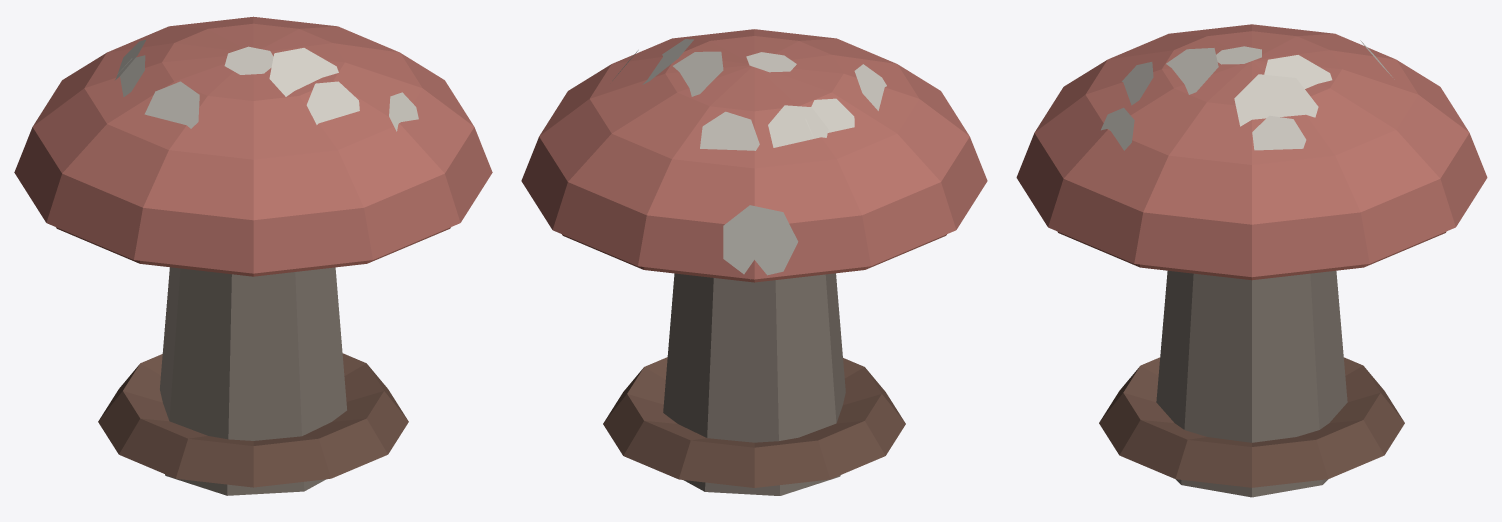
File: toadstool_v3.glb
The picture shows the model from 3 angles, left to right: view 1: azimuth 30°, elevation 25°; view 2: azimuth 150°, elevation 25°; view 3: azimuth 270°, elevation 25°; orthographic projection. The views are drawn at different scales.
Parts seen in each view (by area): view 1: world; view 2: world; view 3: world.
Part boxes in pixels (box(x1,y1,x2,y2)): world: box(14, 16, 492, 495); world: box(521, 29, 987, 495); world: box(1016, 24, 1487, 497).
Size of the model in its own units: 1 by 0.958 by 1.
